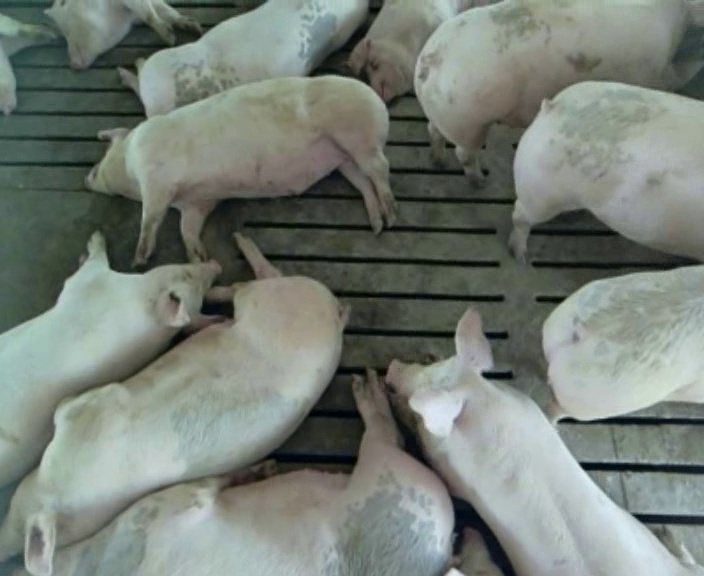pig: (0, 234, 344, 573), (386, 309, 703, 575), (86, 76, 394, 264), (0, 232, 224, 487), (414, 2, 703, 183), (510, 81, 703, 260), (120, 2, 367, 116), (543, 265, 703, 424), (348, 1, 462, 101), (45, 2, 201, 68)
